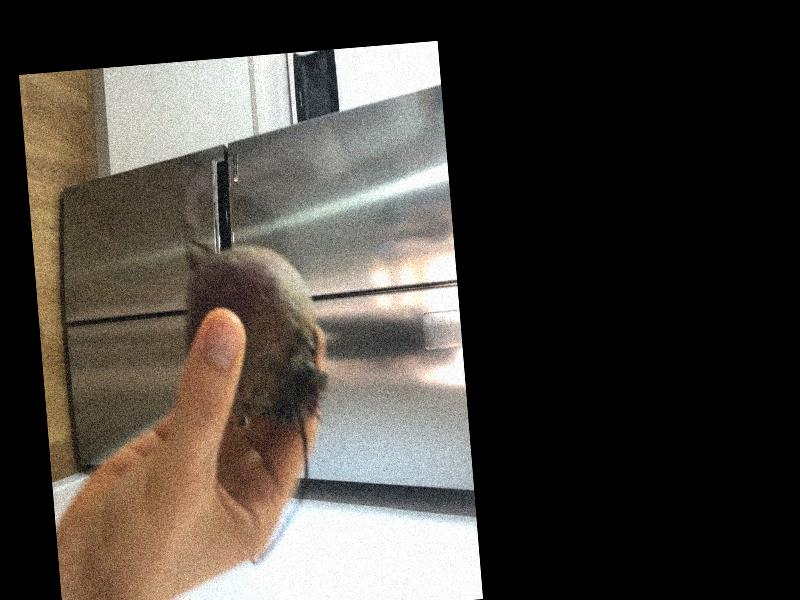Beet: (177, 209, 342, 568)
